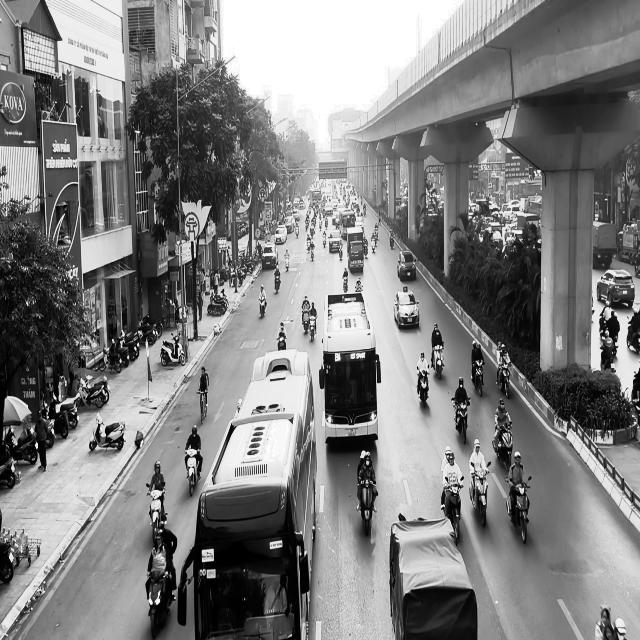bus: (177, 348, 317, 639), (319, 290, 381, 443)
car: (596, 269, 635, 308), (393, 288, 420, 329), (397, 250, 416, 280)
motorbike: (146, 569, 174, 638), (504, 475, 531, 544), (441, 478, 464, 545), (468, 460, 491, 527), (89, 412, 125, 452), (357, 479, 378, 536), (146, 488, 166, 542), (450, 394, 470, 444), (492, 423, 512, 470), (184, 448, 202, 497), (496, 363, 511, 398), (416, 367, 429, 407), (471, 359, 484, 397), (196, 388, 208, 424), (432, 344, 444, 379), (308, 314, 317, 341), (301, 308, 309, 332), (276, 332, 286, 350), (258, 296, 266, 318), (274, 272, 281, 293)
